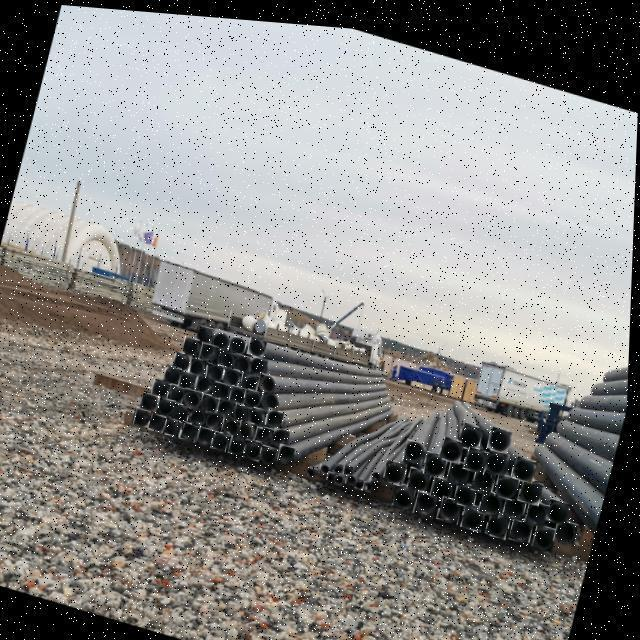pipe: (459, 414, 486, 443), (488, 502, 515, 530), (520, 468, 547, 496), (465, 437, 492, 465), (439, 489, 466, 516), (535, 514, 561, 542), (481, 481, 507, 509), (514, 446, 540, 474), (441, 428, 467, 456), (556, 509, 582, 536), (512, 507, 537, 535), (549, 488, 574, 515), (528, 491, 553, 518), (456, 473, 481, 500), (474, 459, 499, 486), (490, 417, 515, 444), (416, 484, 441, 510), (433, 467, 458, 493), (449, 452, 474, 478), (465, 496, 489, 523), (506, 486, 530, 512), (498, 465, 522, 491), (489, 440, 512, 467), (396, 476, 419, 502), (427, 444, 450, 470), (387, 453, 410, 478), (406, 432, 428, 458), (411, 460, 434, 484), (201, 389, 222, 412), (241, 367, 262, 389), (223, 363, 244, 385), (184, 385, 205, 407), (248, 332, 269, 353), (164, 362, 185, 383), (234, 398, 255, 419), (239, 416, 260, 437), (213, 327, 233, 349), (223, 412, 243, 434), (218, 393, 238, 415), (190, 403, 210, 425), (197, 320, 217, 341), (218, 345, 238, 366), (201, 338, 221, 359), (208, 359, 228, 380), (197, 372, 217, 393), (273, 422, 293, 443), (207, 407, 227, 428), (158, 393, 178, 414), (235, 349, 254, 371), (260, 368, 279, 390), (263, 386, 282, 408), (175, 348, 194, 369), (230, 381, 249, 402), (246, 385, 265, 406), (169, 380, 188, 401), (174, 399, 193, 420), (182, 418, 201, 439), (213, 426, 232, 447), (230, 431, 249, 452), (231, 332, 250, 352), (252, 351, 271, 371), (183, 332, 202, 352), (181, 368, 200, 388), (214, 377, 233, 397), (257, 420, 276, 440), (143, 389, 162, 409), (150, 410, 169, 430), (166, 414, 185, 434), (262, 440, 281, 460), (153, 375, 171, 396), (247, 435, 265, 456), (192, 355, 210, 375), (269, 404, 287, 424), (252, 403, 270, 423), (136, 404, 154, 424), (199, 422, 217, 442), (280, 439, 298, 459), (345, 458, 356, 470), (365, 475, 376, 486), (322, 458, 332, 470), (374, 464, 384, 476), (336, 457, 346, 468), (349, 468, 359, 479), (357, 472, 367, 483), (338, 468, 347, 480), (311, 461, 320, 471), (330, 465, 338, 475)
